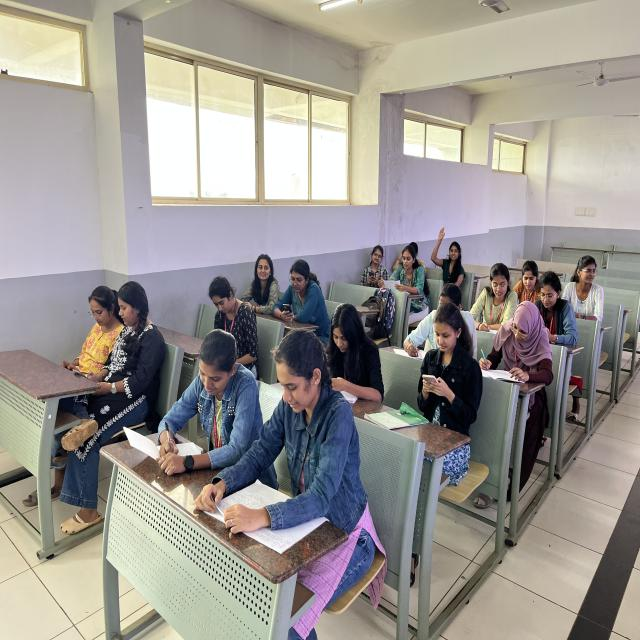Hand Rising: (428, 218, 472, 292)
Reading: (227, 330, 348, 558), (380, 248, 436, 301)
Using Phone: (70, 272, 162, 401), (415, 308, 474, 426), (268, 261, 331, 333)
Writing: (129, 321, 254, 480), (468, 303, 546, 390), (400, 270, 465, 367)
